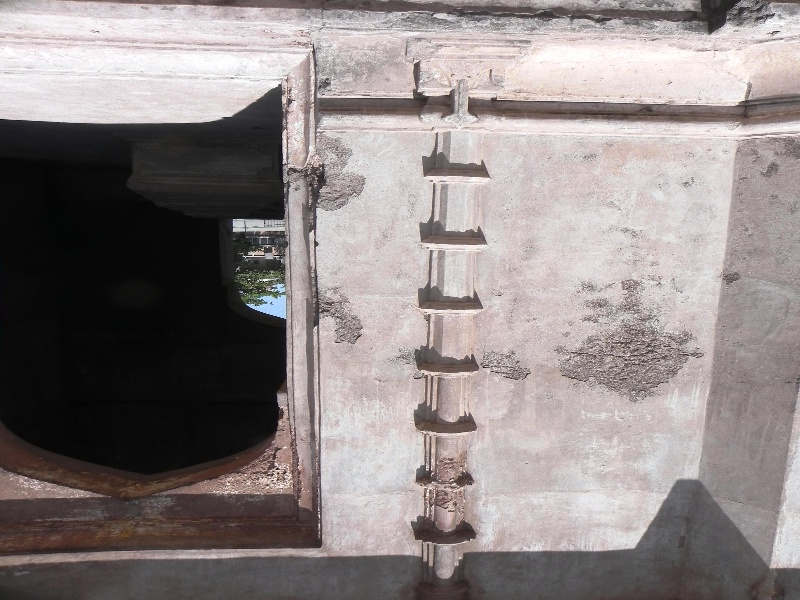Spalling: (552, 278, 705, 409), (295, 133, 374, 219), (306, 262, 368, 354), (481, 337, 532, 388)
